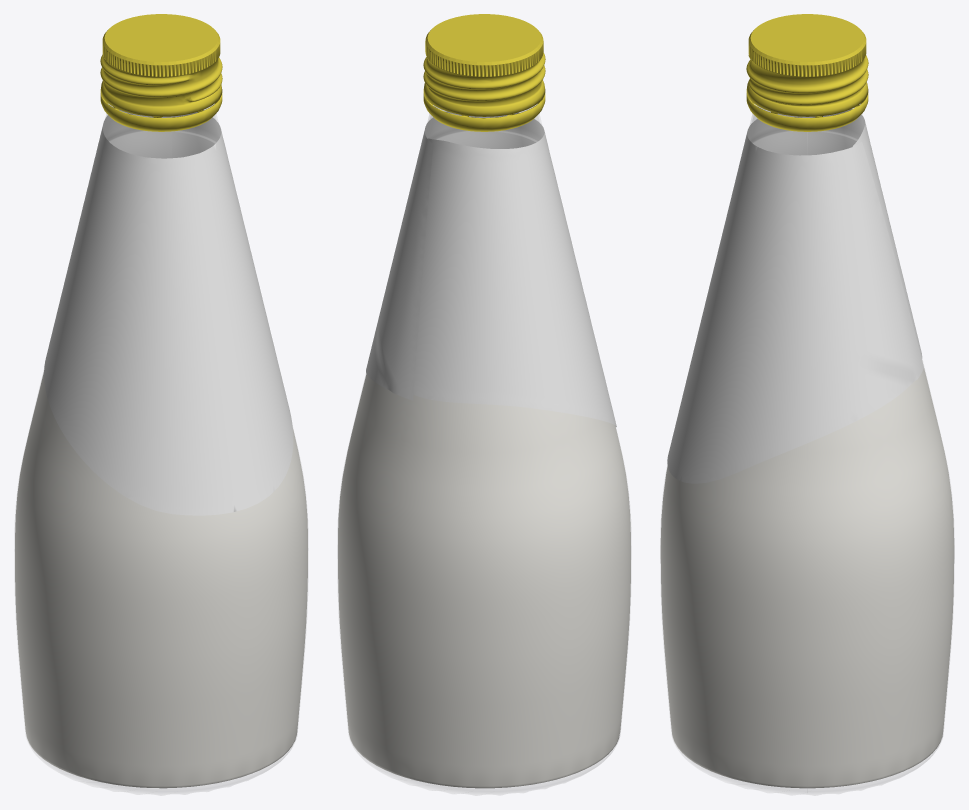
File: glass-290-milk.glb
3 renders of one model, left to right at view 1: azimuth 30°, elevation 25°; view 2: azimuth 150°, elevation 25°; view 3: azimuth 270°, elevation 25°, orthographic.
Parts seen in each view (by area): view 1: Body, Water, Label, Golden Cap, Neck; view 2: Body, Water, Label, Golden Cap, Neck; view 3: Body, Water, Label, Golden Cap, Neck.
Boxes of the visible parts, x1,y1,x2,y2 form: Body: [14, 131, 308, 795]; Water: [15, 372, 307, 788]; Label: [44, 110, 293, 515]; Golden Cap: [100, 14, 222, 131]; Neck: [103, 104, 220, 158]; Body: [337, 131, 631, 795]; Water: [338, 374, 630, 788]; Label: [366, 111, 616, 426]; Golden Cap: [423, 14, 545, 131]; Neck: [425, 104, 543, 148]; Body: [660, 131, 954, 795]; Water: [660, 368, 954, 788]; Label: [667, 109, 923, 483]; Golden Cap: [746, 14, 868, 131]; Neck: [747, 104, 864, 154].
Size of the model in its own units: 0.0682 by 0.1804 by 0.0682.
